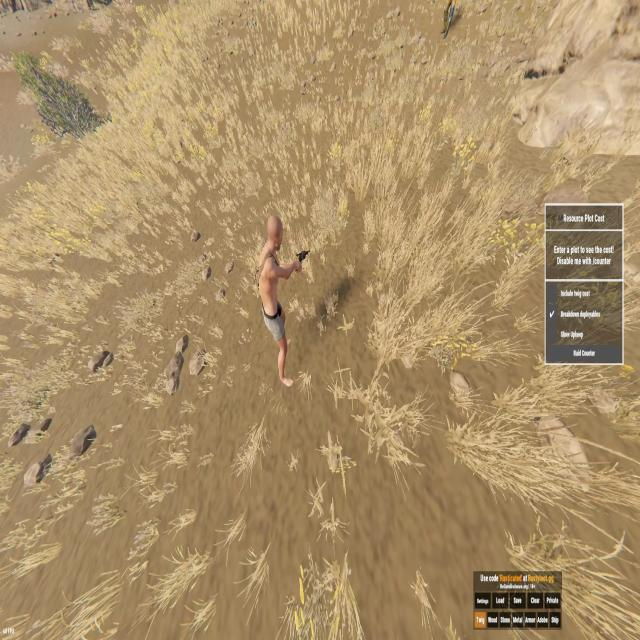Player: (258, 214, 300, 388)
